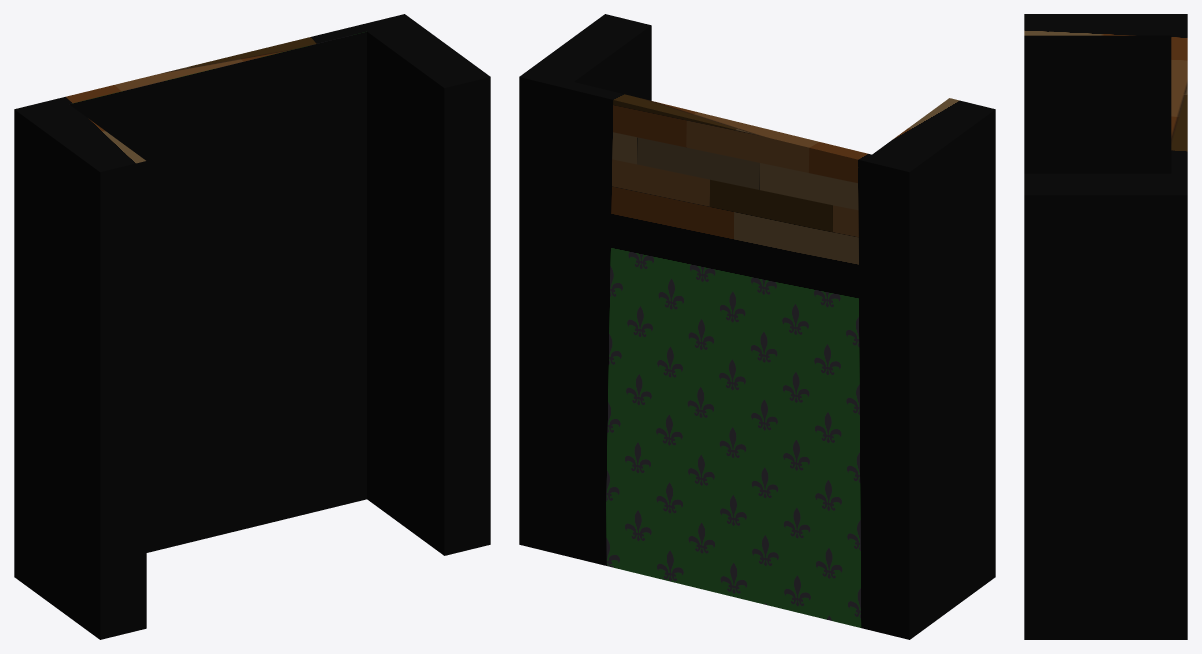
File: SM_PathVert2M.fbx
3 renders of one model, left to right at view 1: azimuth 30°, elevation 25°; view 2: azimuth 150°, elevation 25°; view 3: azimuth 270°, elevation 25°, orthographic. The views are drawn at different scales.
Parts seen in each view (by area): view 1: SM_PathVert2M; view 2: SM_PathVert2M; view 3: SM_PathVert2M.
Part boxes in pixels (x1,y1,x2,y2): SM_PathVert2M: (14,14,490,639); SM_PathVert2M: (519,14,995,639); SM_PathVert2M: (1024,14,1187,639).
Size of the model in its own units: 262 by 300 by 100.
